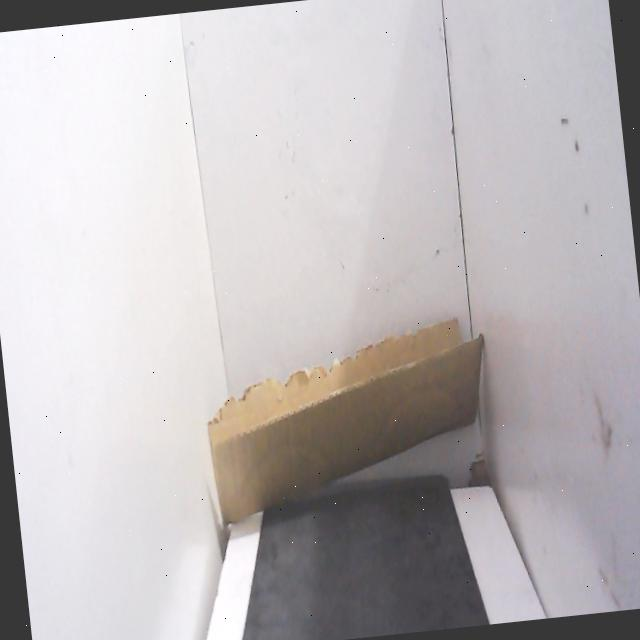papel: (193, 296, 507, 538)
